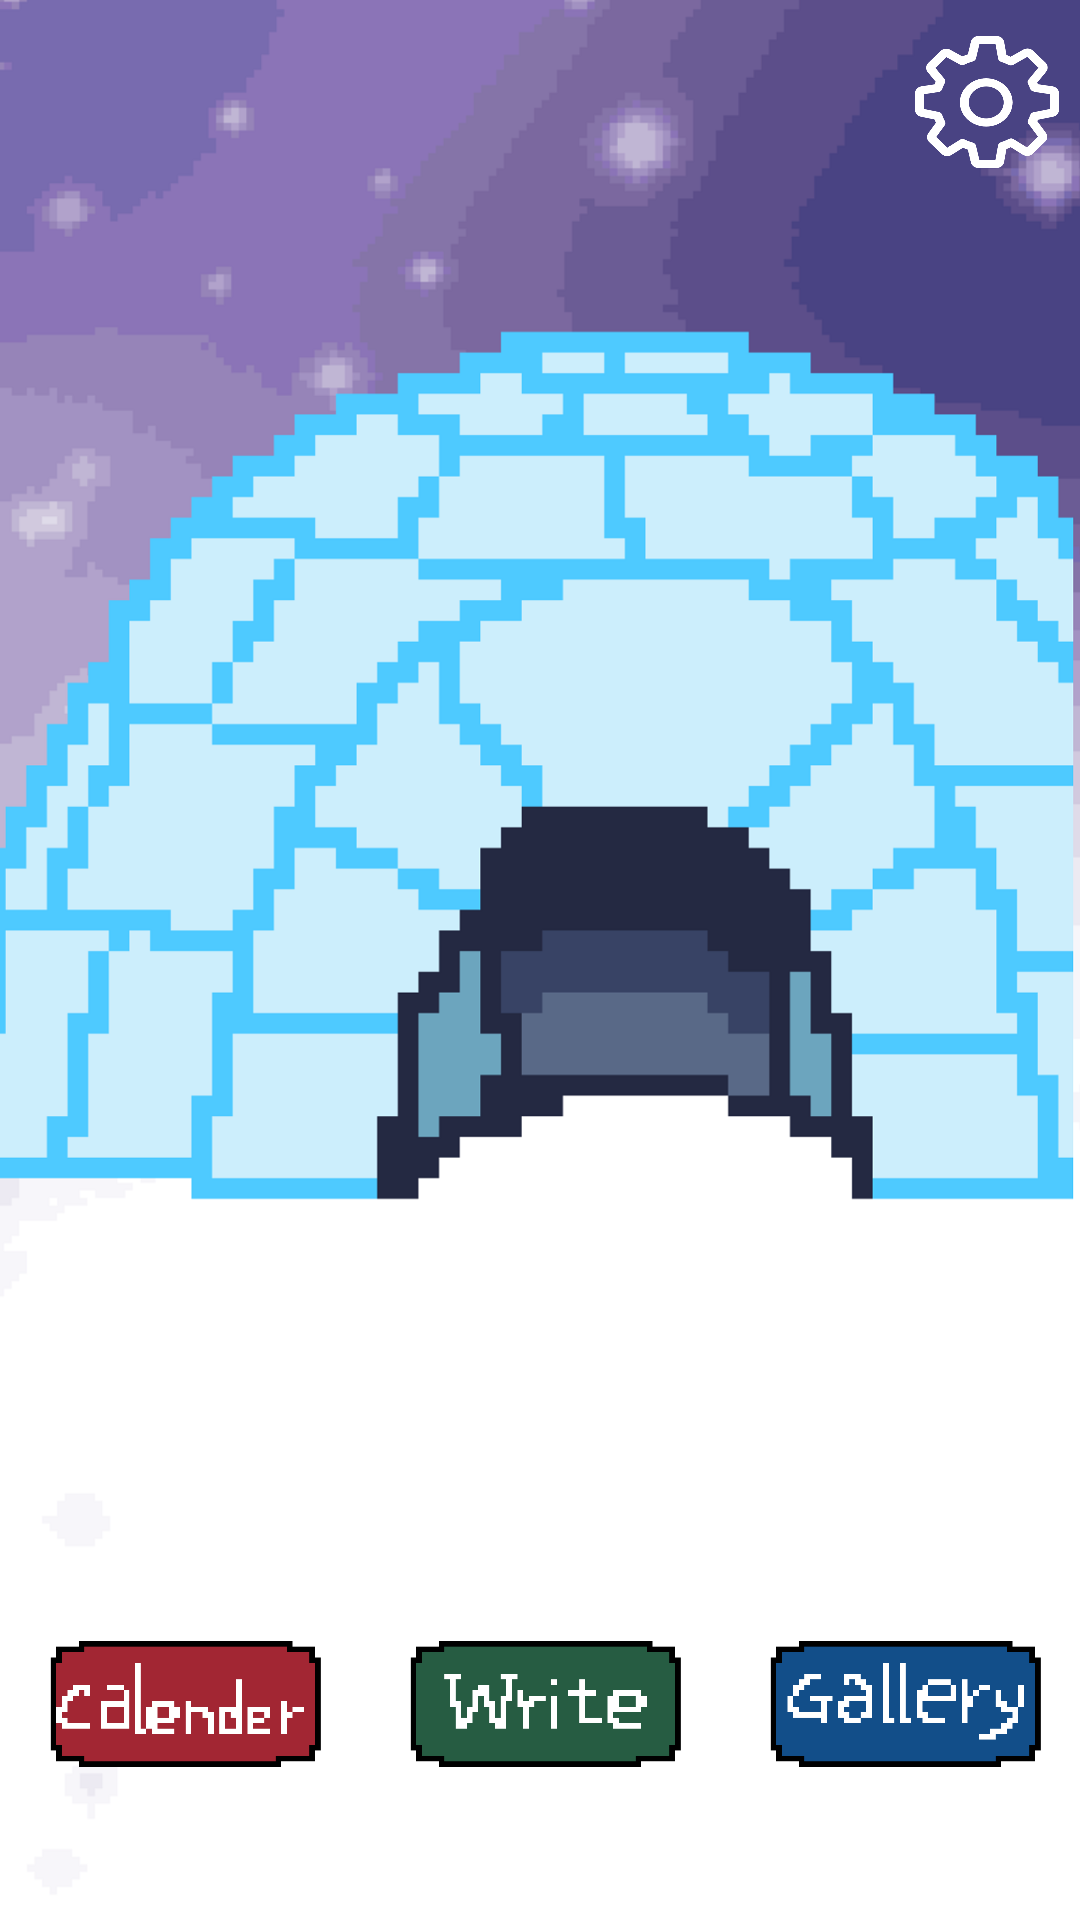

Icon click points for this 1080×1920 phone screenshot, format (x,y):
setting: (987,102)
